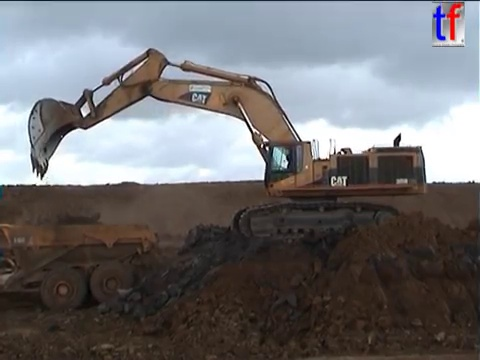excavator: (24, 44, 428, 247)
truck: (1, 219, 158, 312)
